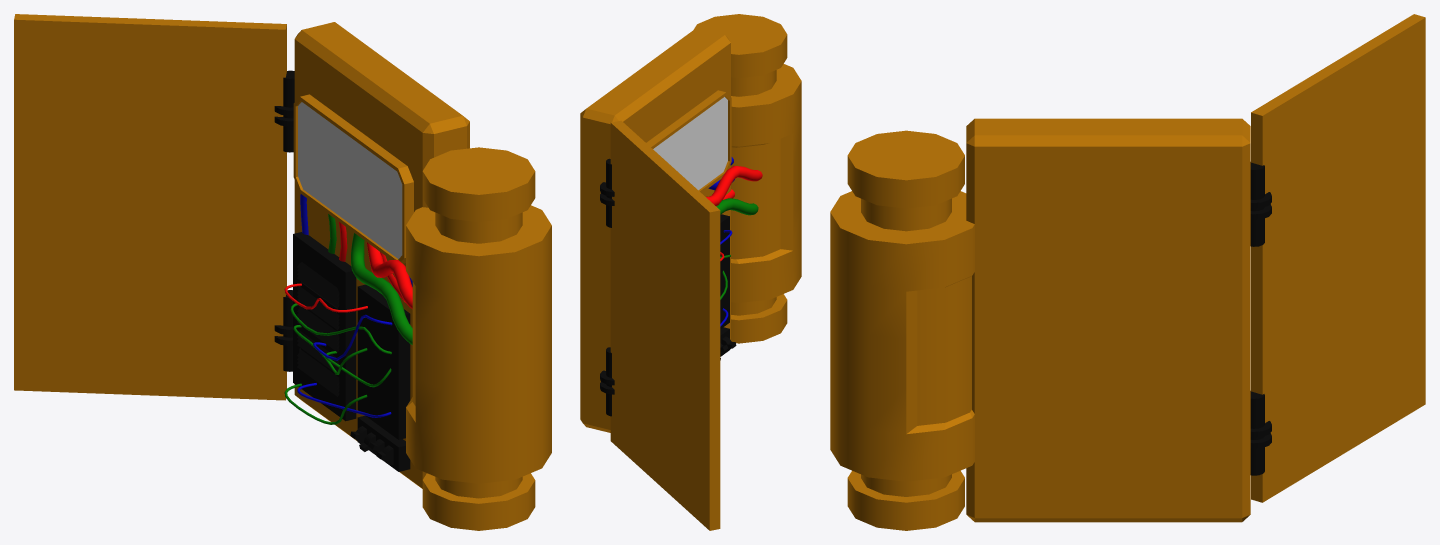
The model's file is SM_panneau1.FBX.
3 views of the same model, side by side, from view 1: azimuth 30°, elevation 25°; view 2: azimuth 150°, elevation 25°; view 3: azimuth 270°, elevation 25° (orthographic). The views are drawn at different scales.
Visible parts, largest first — view 1: Box261, Group005; view 2: Box261, Group005; view 3: Box261.
Boxes of the visible parts, x1,y1,x2,y2 form: Box261: (14,14,551,530); Group005: (284,102,412,424); Box261: (580,14,801,530); Group005: (653,97,762,326); Box261: (830,14,1425,530).
Bounding box in the file's own units: 44.54 × 55.4 × 77.29.
